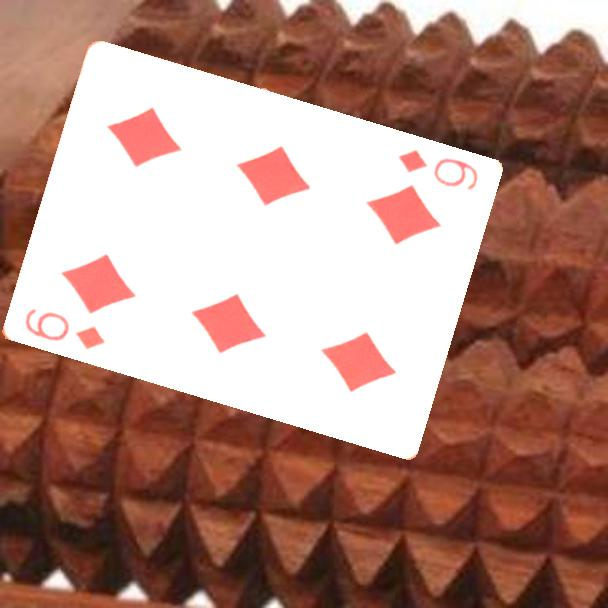d06: (20, 305, 107, 354), (394, 146, 480, 193)
